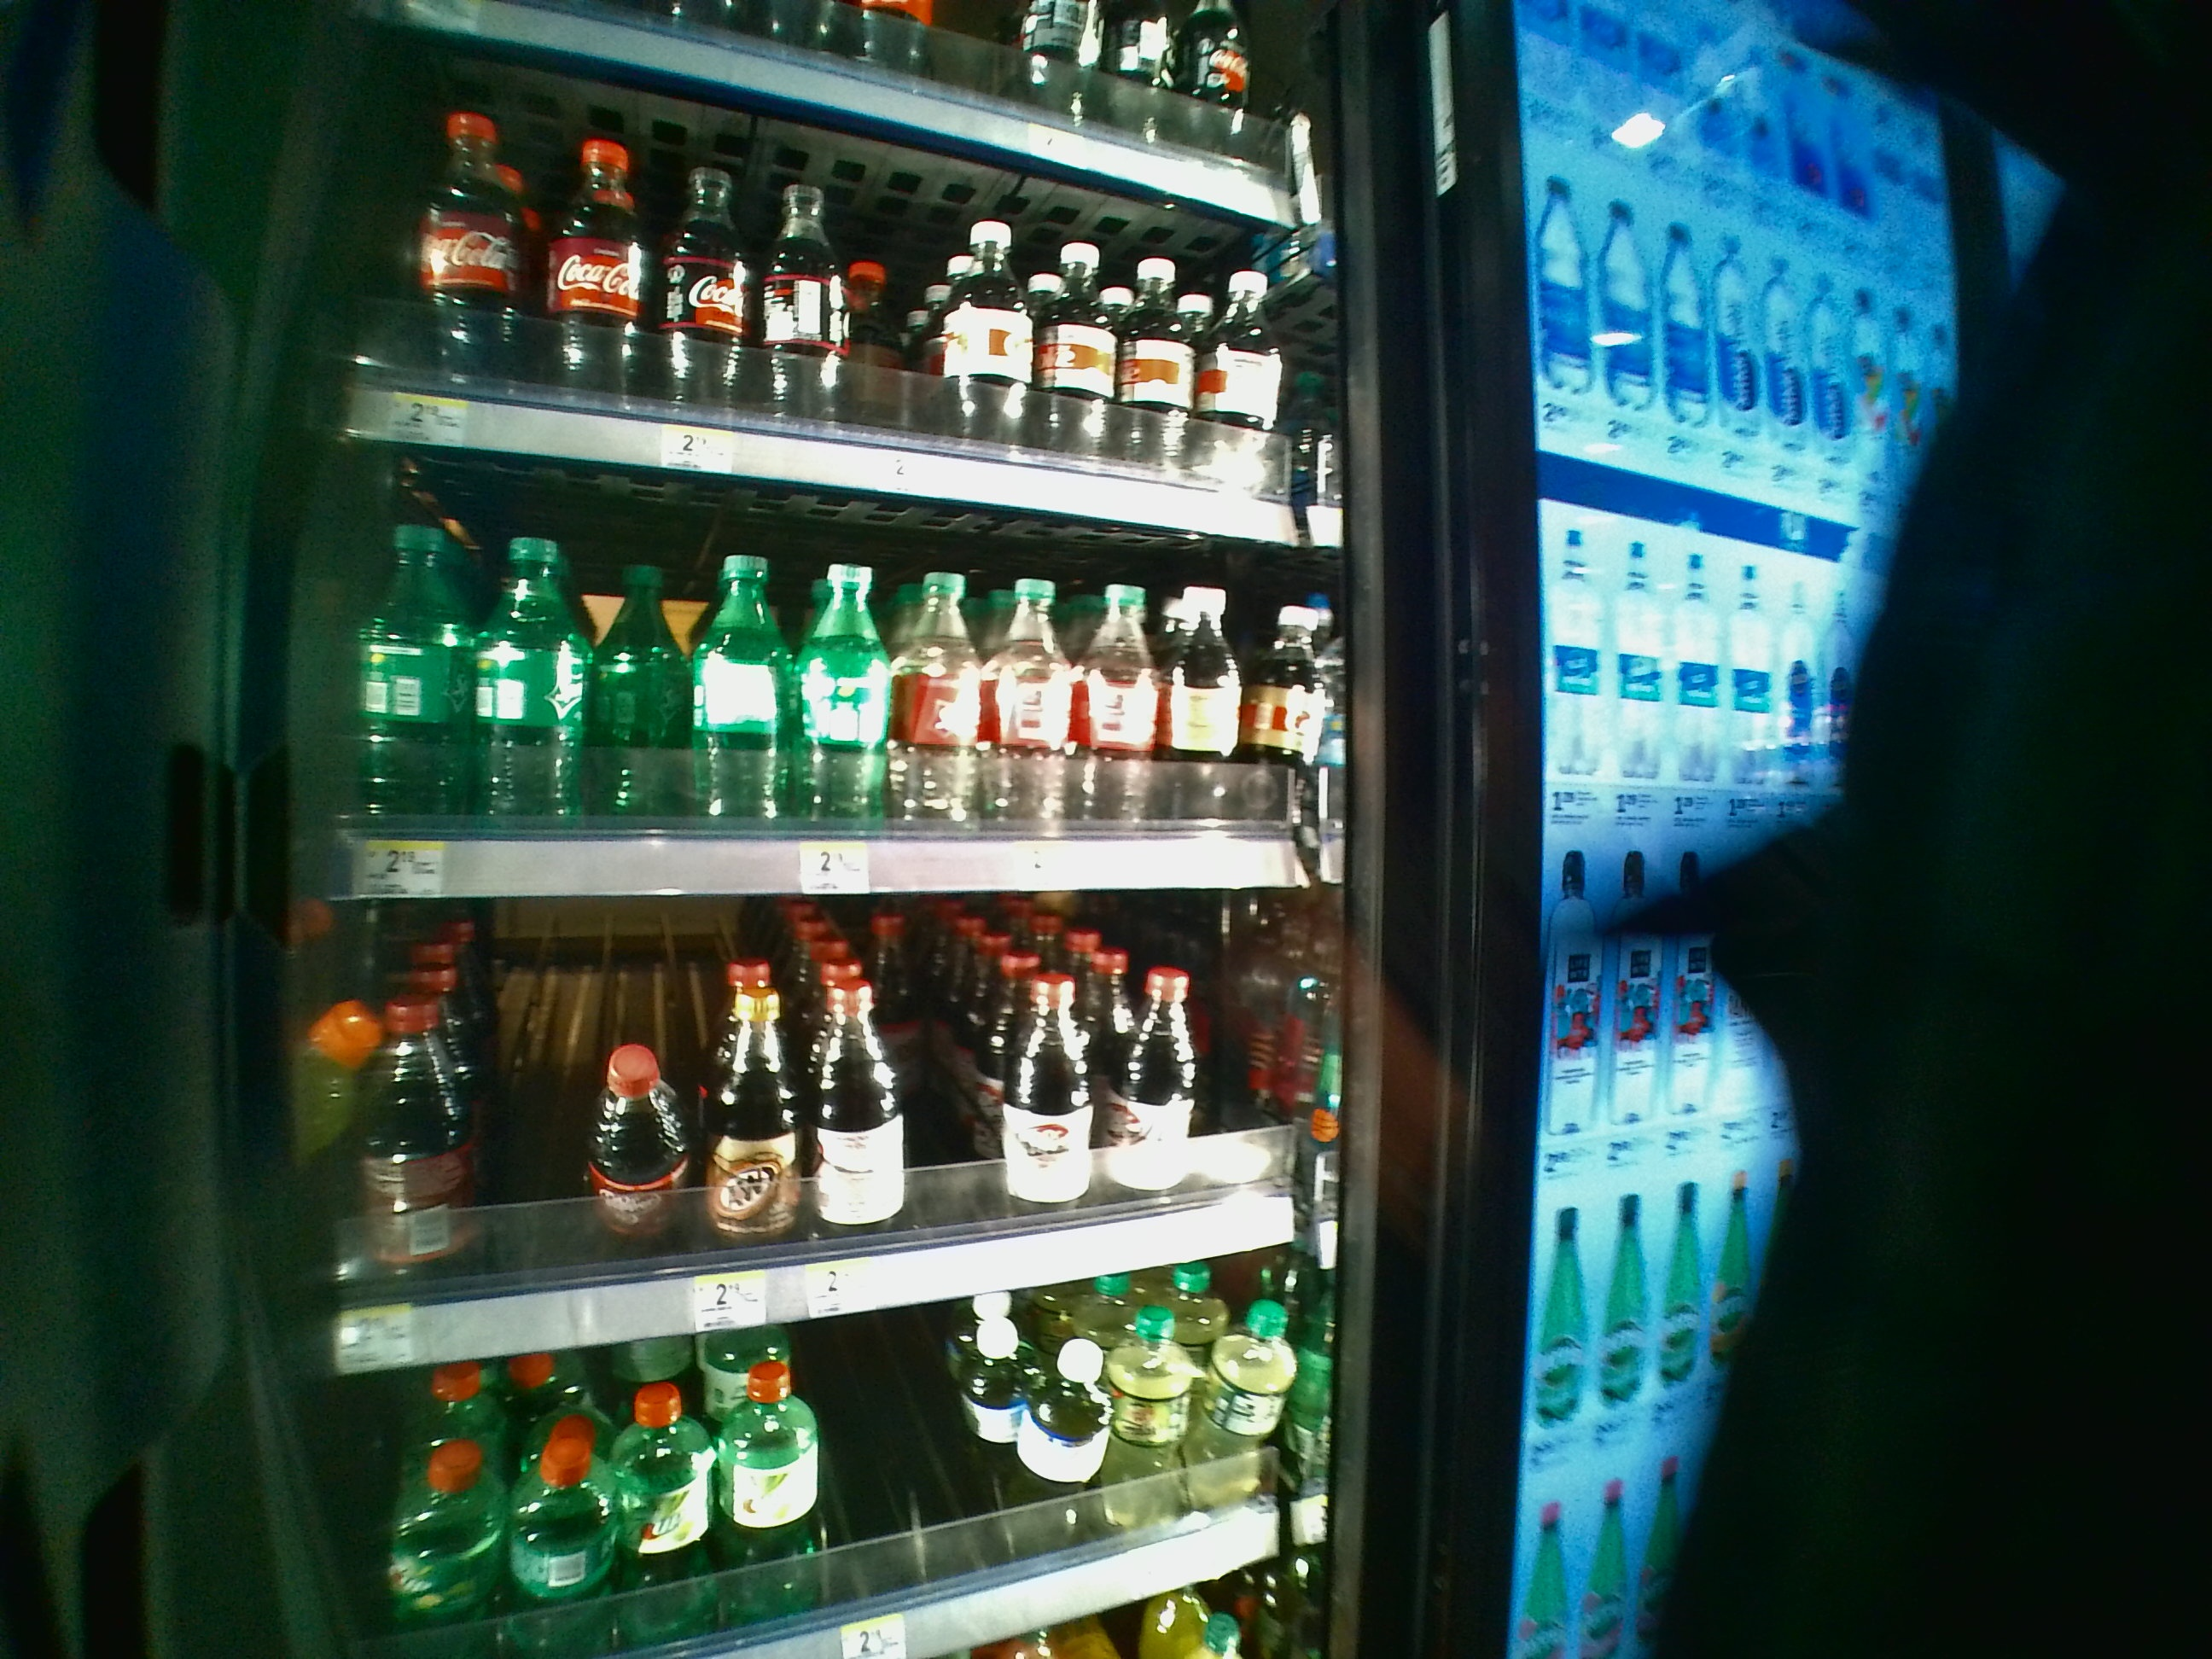shelf: (315, 443, 1353, 899), (305, 896, 1348, 1328)
